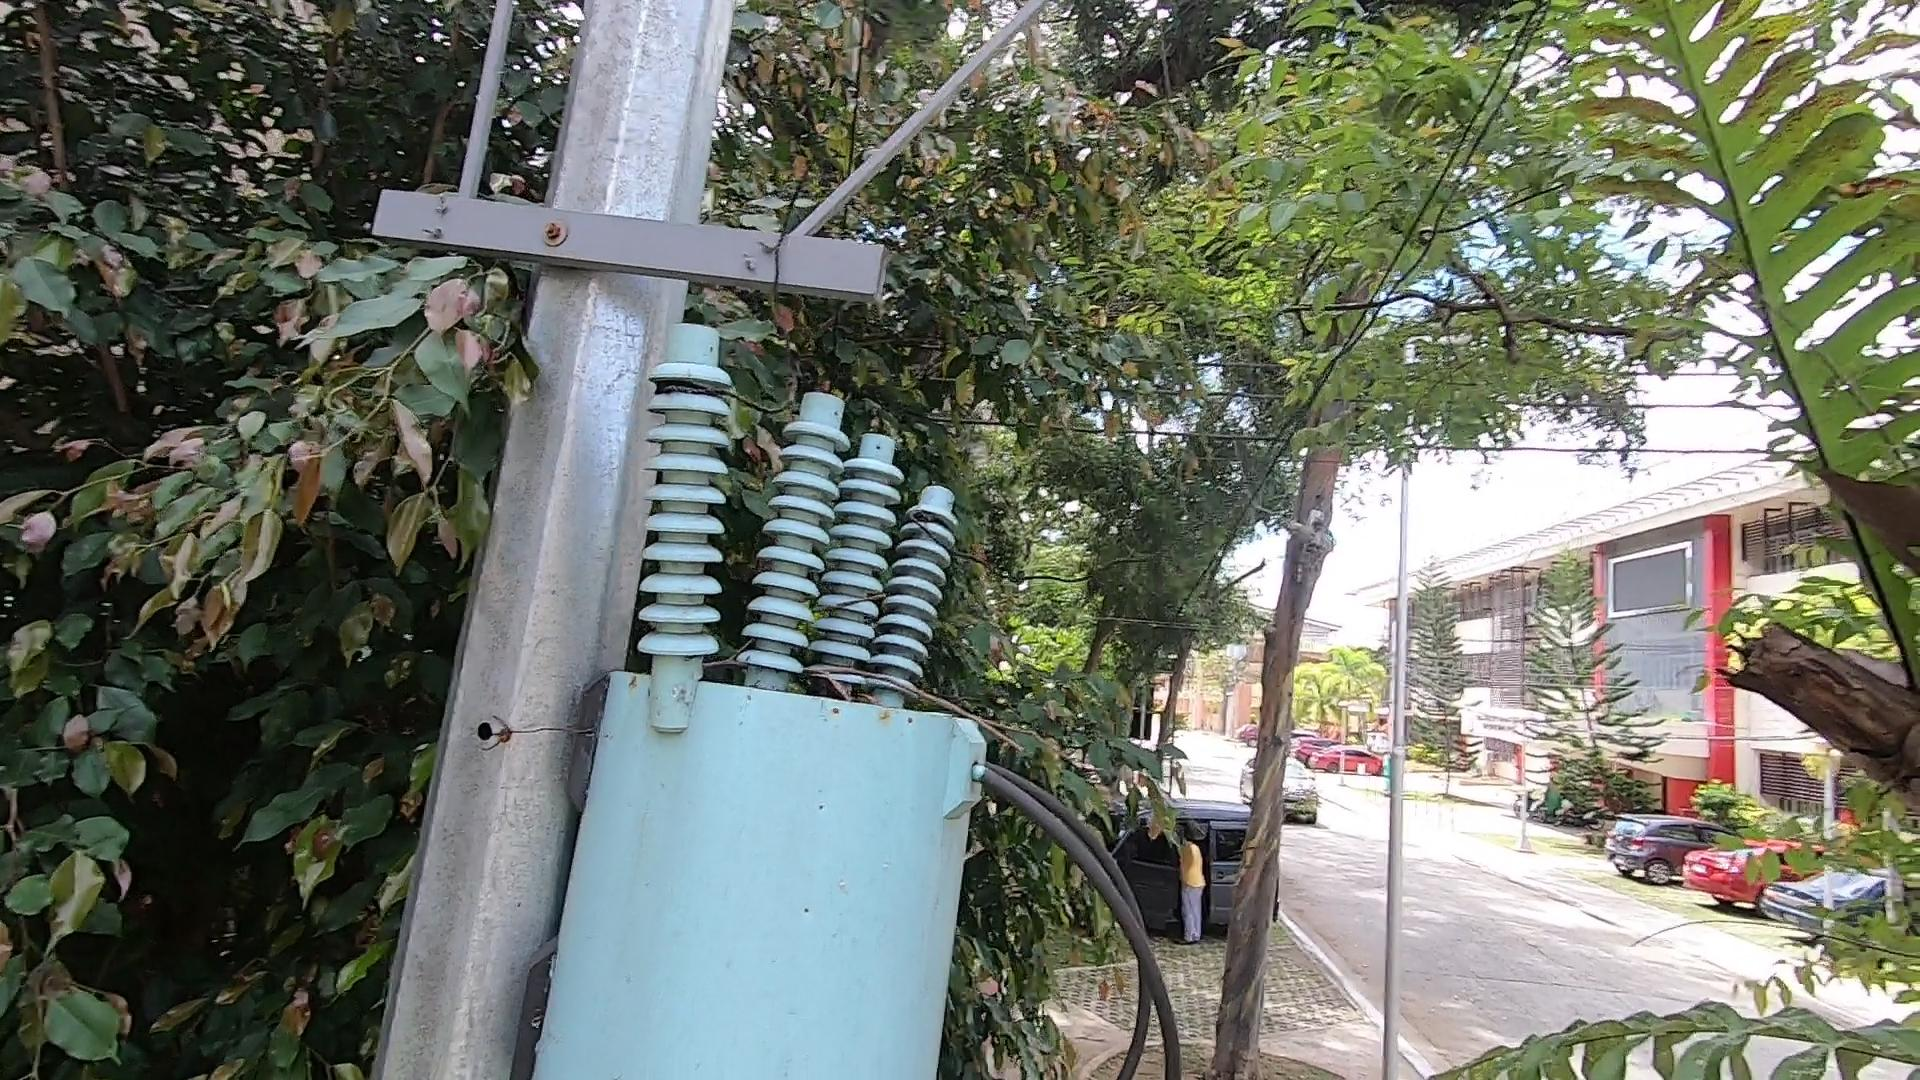leaf: (793, 659, 869, 709)
tree branch: (767, 636, 1044, 762)
